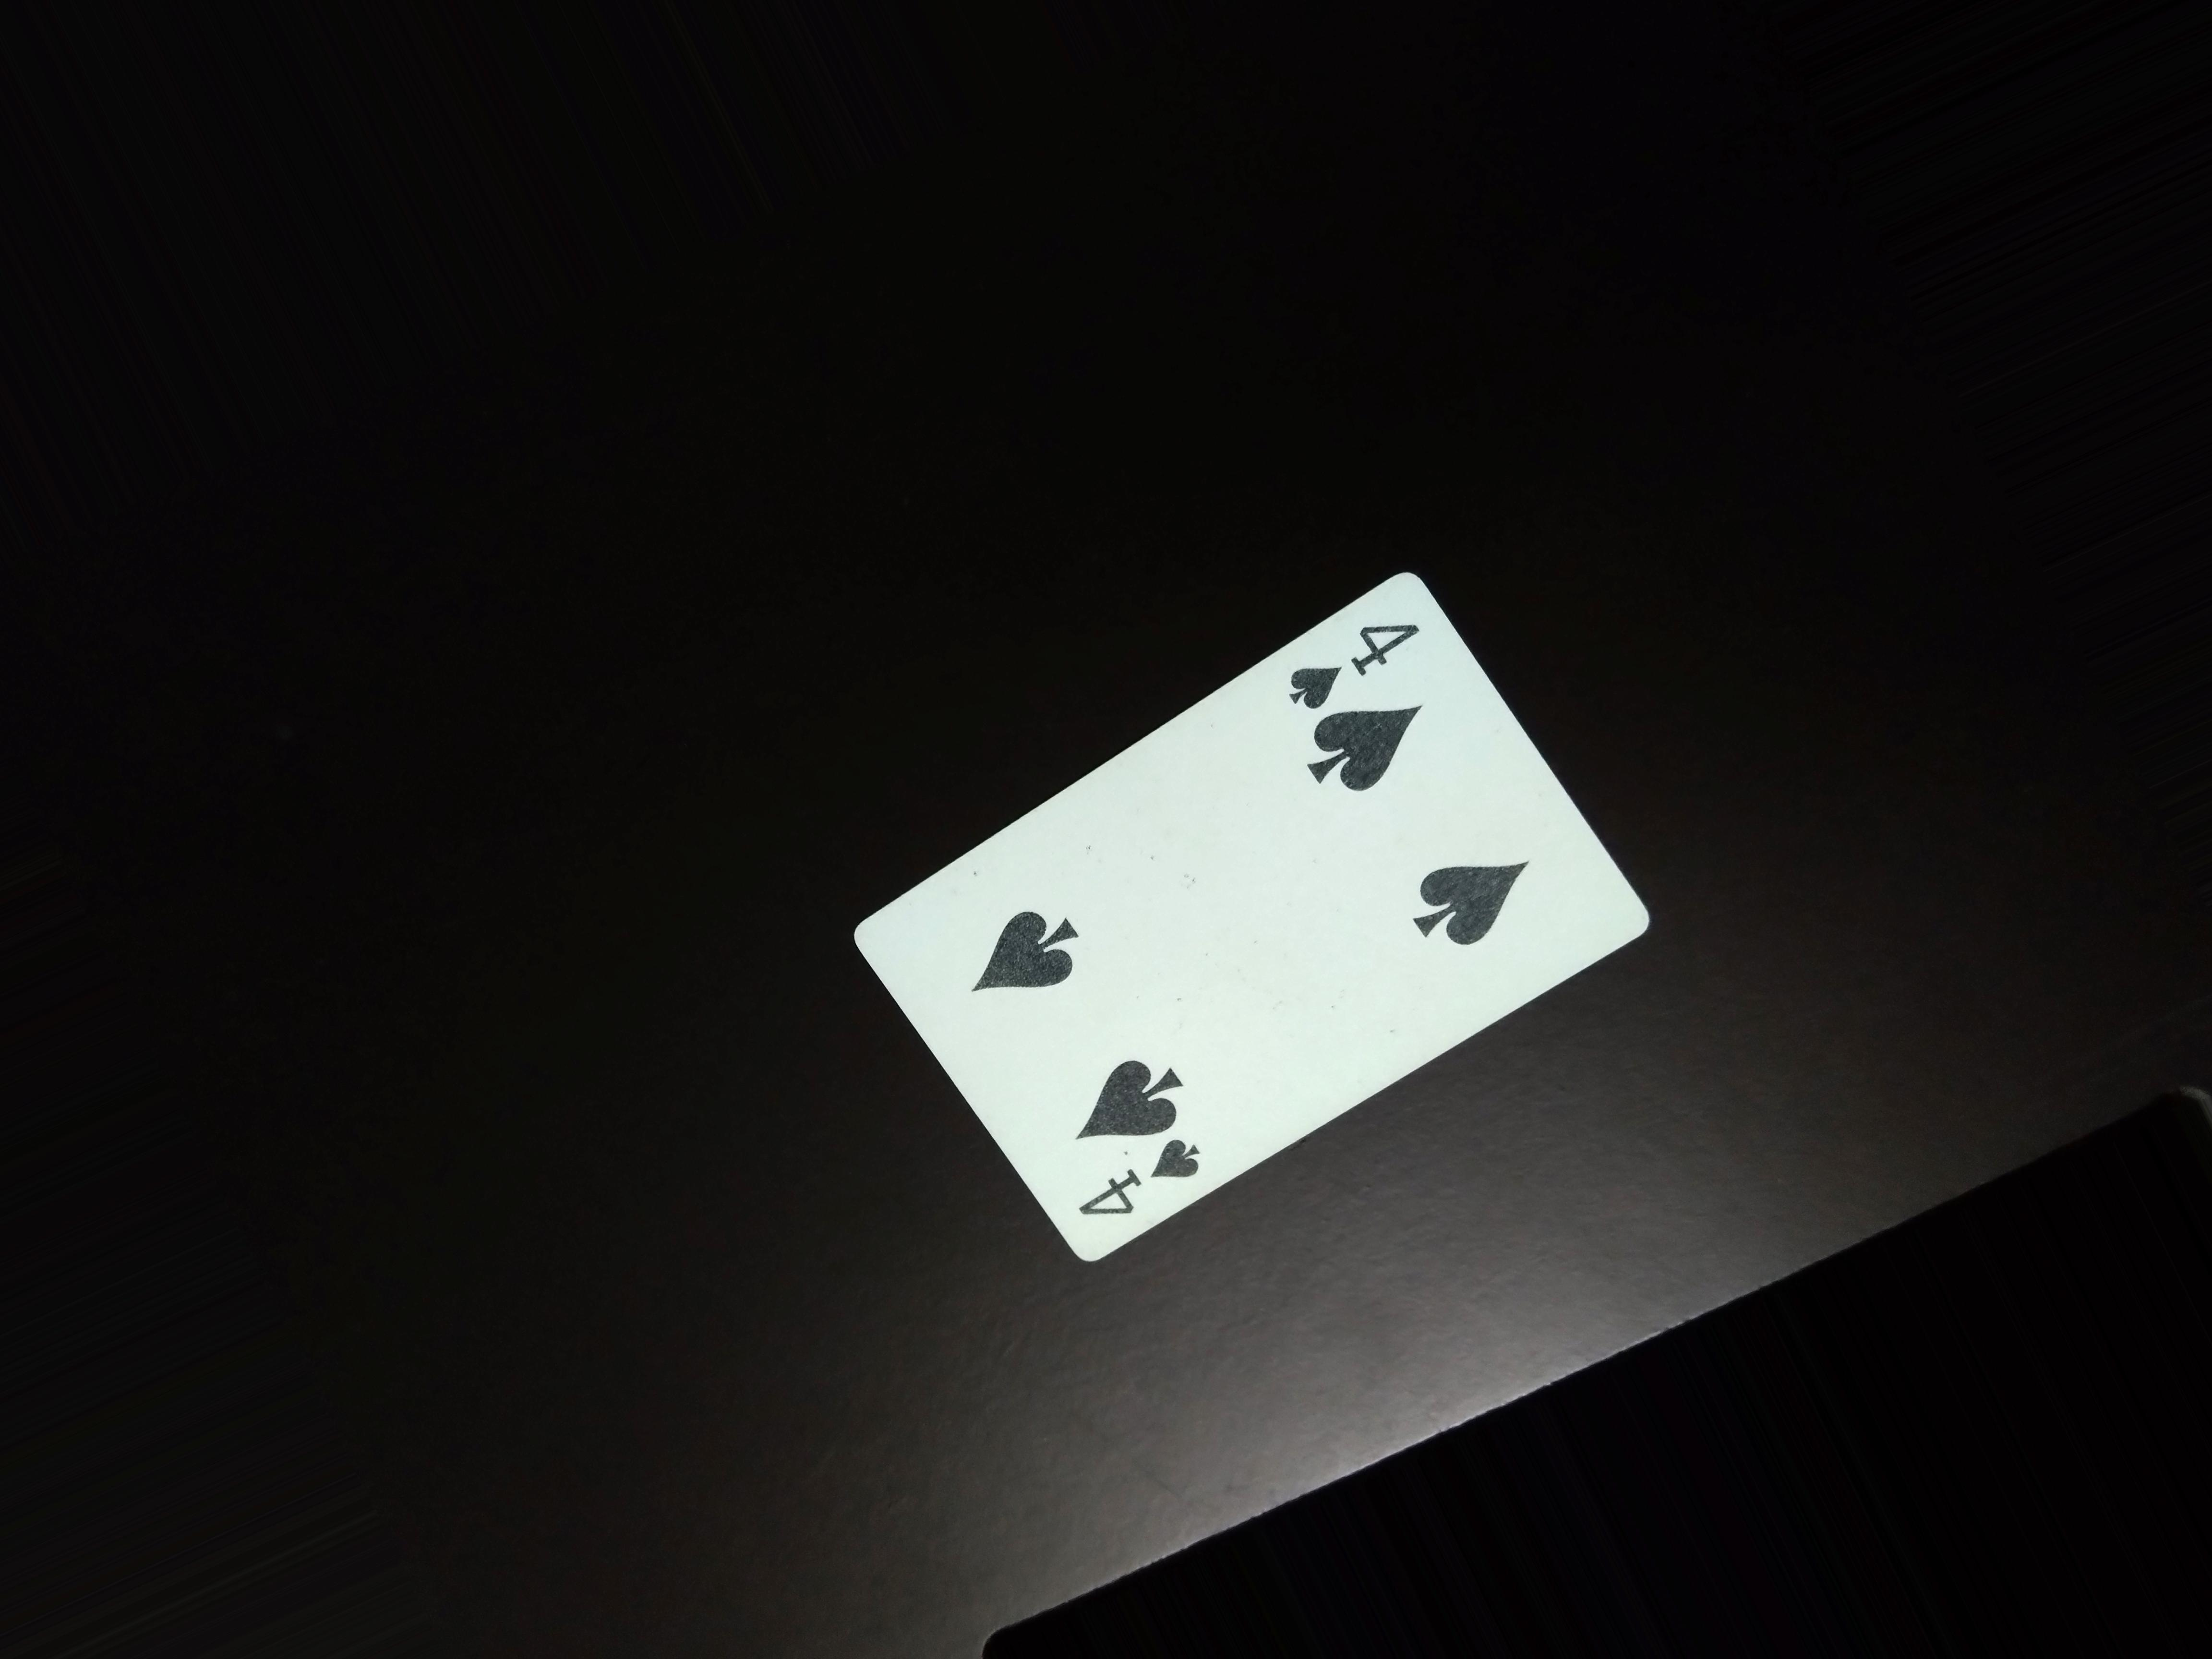4S: (1270, 599, 1442, 704)
